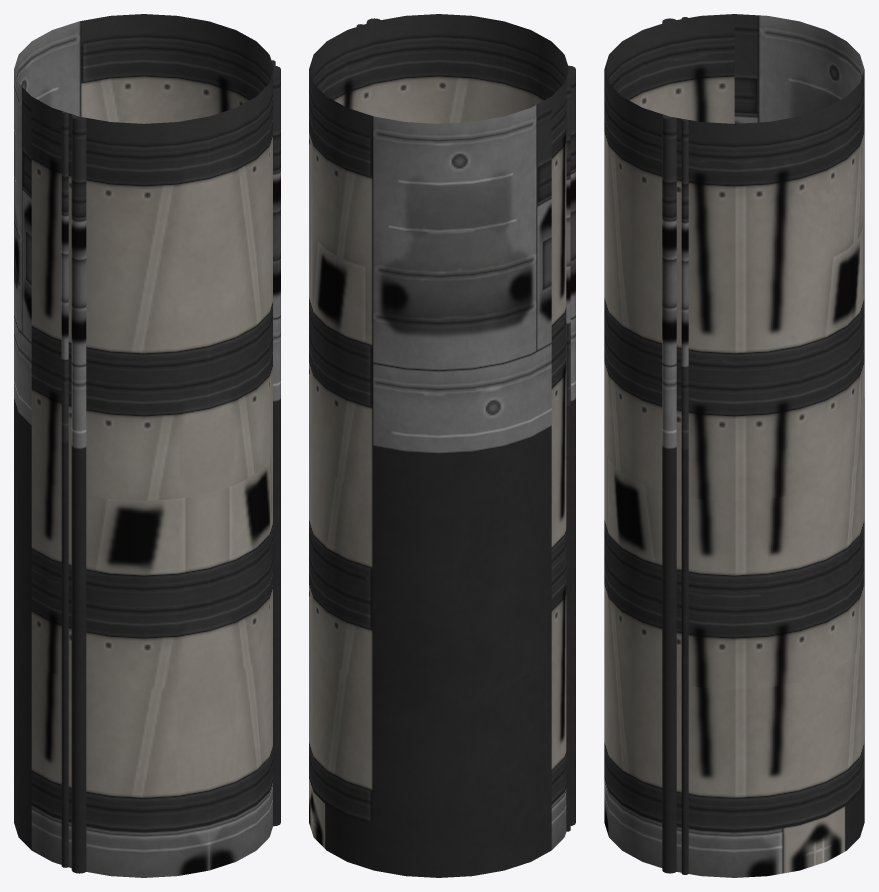
Rendered from hydra_lv_fuel_tank_s2_4.obj.
3 renders of one model, left to right at view 1: azimuth 30°, elevation 25°; view 2: azimuth 150°, elevation 25°; view 3: azimuth 270°, elevation 25°, orthographic.
Visible parts, largest first — view 1: 1; view 2: 1; view 3: 1.
Boxes of the visible parts, box(x1,y1,x2,y2) form: 1: box(14, 14, 280, 877); 1: box(309, 14, 575, 877); 1: box(604, 14, 864, 877).
Bounding box in the file's own units: 2.5 × 8 × 2.5.
